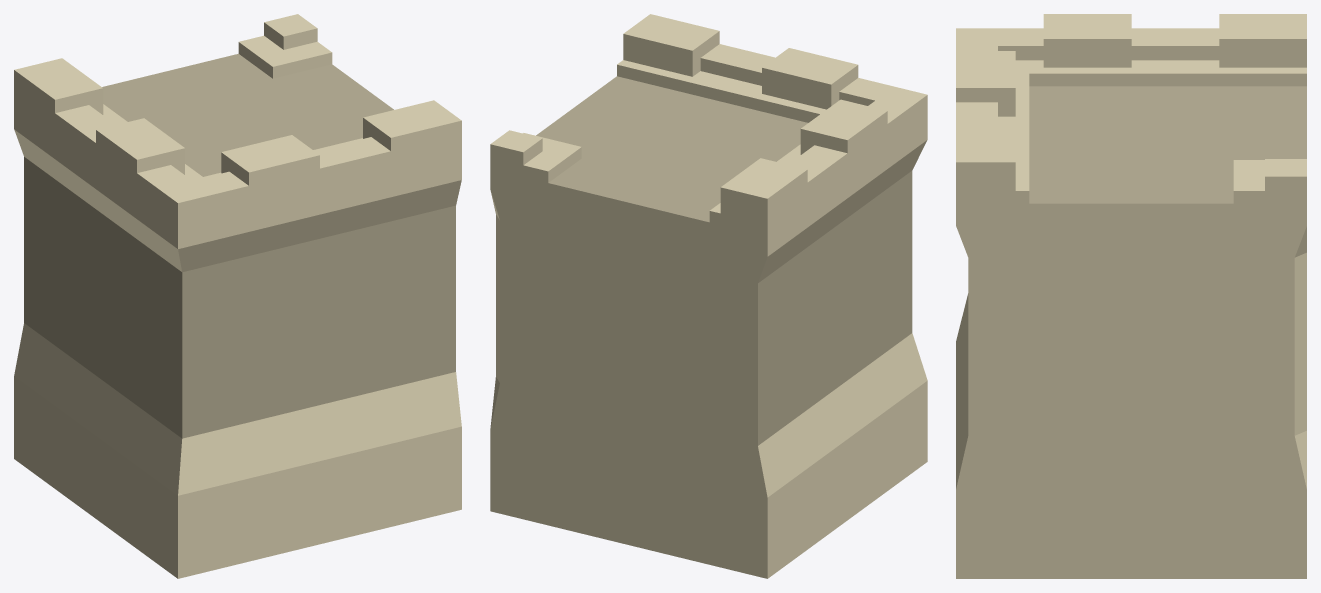
Rendered from wallCorner.fbx.
3 renders of one model, left to right at view 1: azimuth 30°, elevation 25°; view 2: azimuth 150°, elevation 25°; view 3: azimuth 270°, elevation 25°, orthographic. The views are drawn at different scales.
Parts seen in each view (by area): view 1: wallCorner; view 2: wallCorner; view 3: wallCorner.
Boxes of the visible parts, x1,y1,x2,y2 form: wallCorner: (14, 14, 461, 578); wallCorner: (490, 14, 927, 578); wallCorner: (956, 14, 1306, 578).
Size of the model in its own units: 10 by 13.1 by 10.
